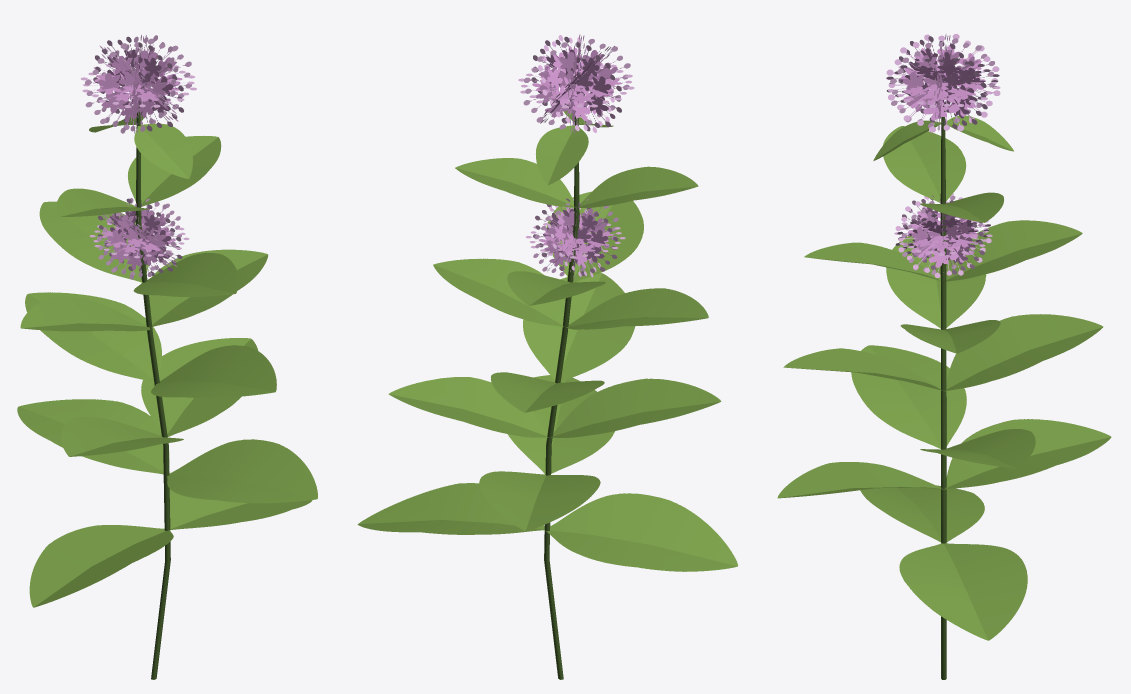
File: Water_Mint_1.fbx
3 views of the same model, side by side, from view 1: azimuth 30°, elevation 25°; view 2: azimuth 150°, elevation 25°; view 3: azimuth 270°, elevation 25° (orthographic).
Parts seen in each view (by area): view 1: Watermint_1; view 2: Watermint_1; view 3: Watermint_1.
Boxes of the visible parts, x1,y1,x2,y2 form: Watermint_1: (17, 35, 317, 679); Watermint_1: (357, 34, 738, 679); Watermint_1: (777, 34, 1111, 679).
Bounding box in the file's own units: 22.8 × 41.33 × 20.37.
